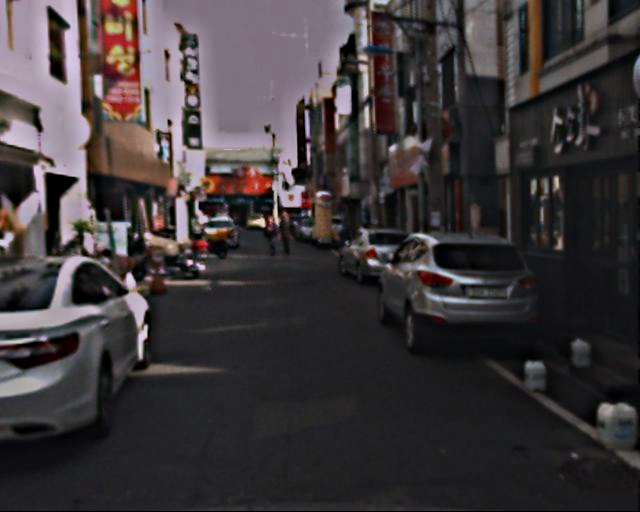person: (336, 215, 357, 271), (279, 213, 300, 266), (262, 215, 282, 262)
